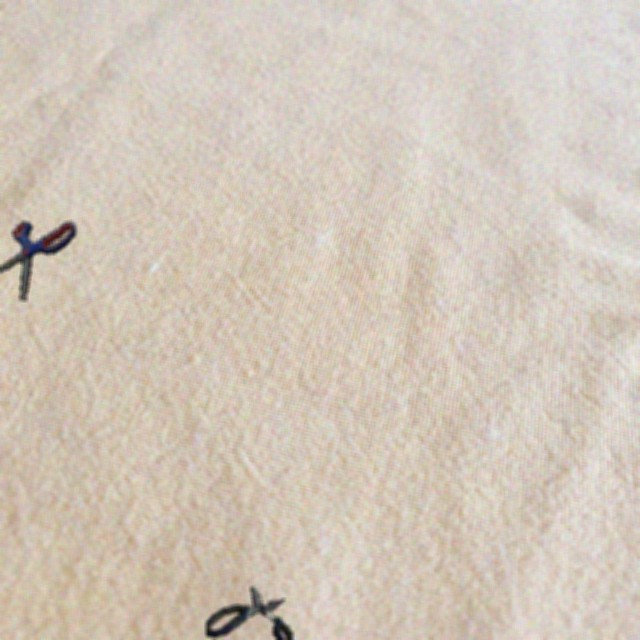scissors: (0, 221, 76, 301), (206, 587, 293, 640)
